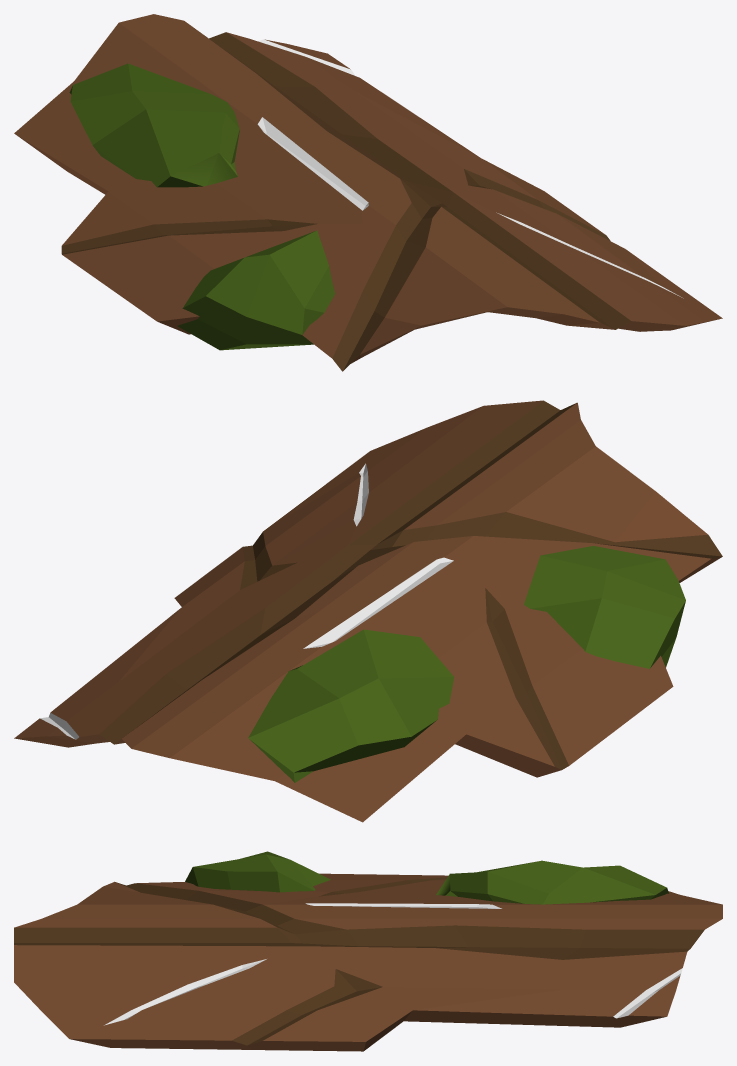
The model's file is FBX_EntBark.fbx.
3 views of the same model, one above another, from view 1: azimuth 30°, elevation 25°; view 2: azimuth 150°, elevation 25°; view 3: azimuth 270°, elevation 25° (orthographic). The views are drawn at different scales.
Parts seen in each view (by area): view 1: bush; view 2: bush; view 3: bush.
Part boxes in pixels (x1=…): bush: x1=14, y1=14, x2=722, y2=371; bush: x1=14, y1=400, x2=722, y2=822; bush: x1=14, y1=851, x2=722, y2=1051.
Size of the model in its own units: 12.55 by 3.26 by 22.02.
